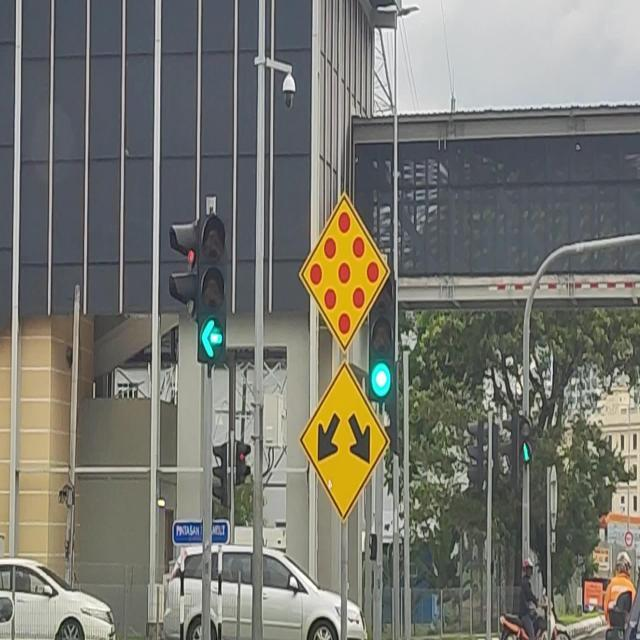green_light: (196, 212, 226, 364), (368, 269, 394, 402)
